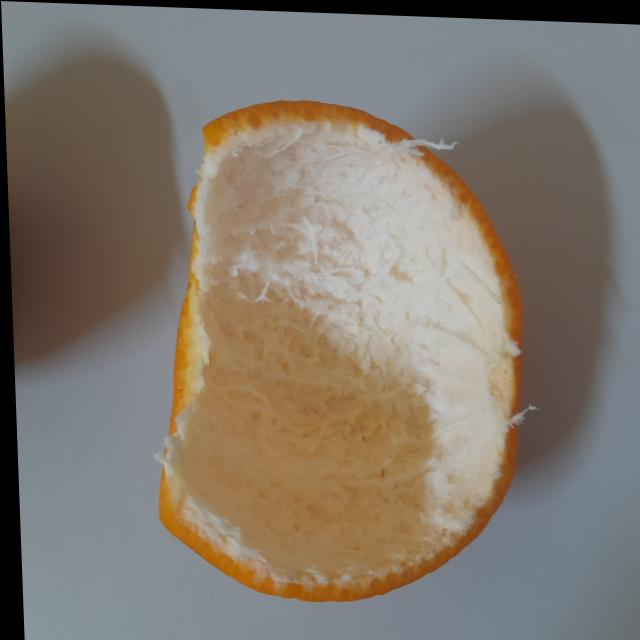Cam: (132, 73, 557, 605)
